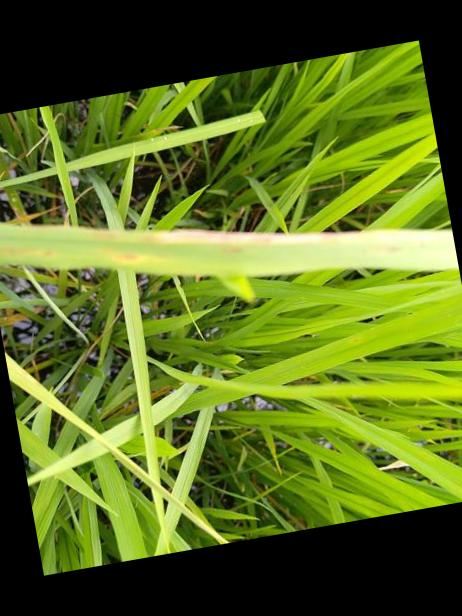Leaf Streak: (156, 227, 365, 246), (70, 227, 152, 244), (89, 248, 160, 267), (0, 248, 56, 261)
